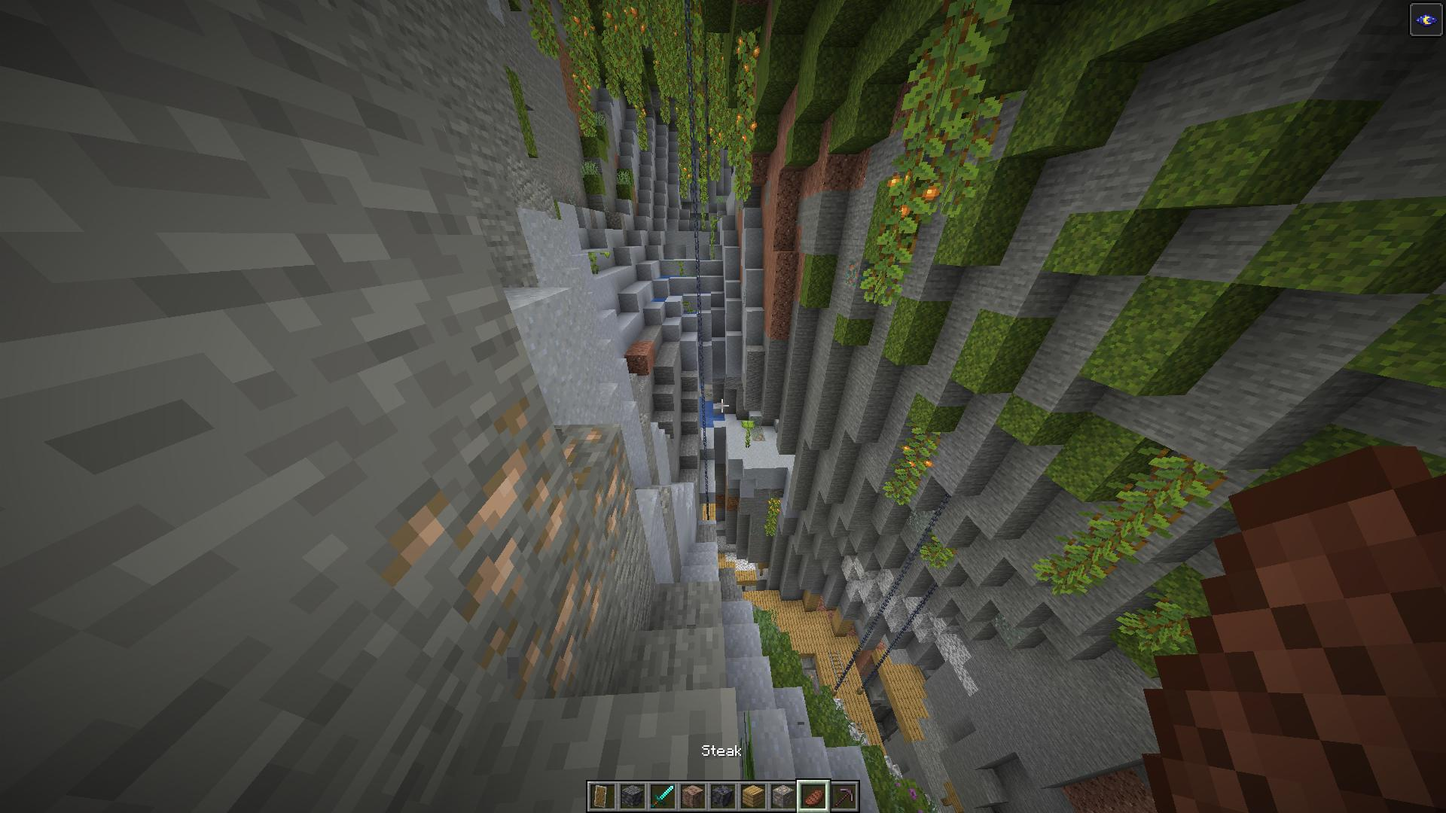iron ore: (374, 400, 619, 700), (559, 428, 635, 552)
